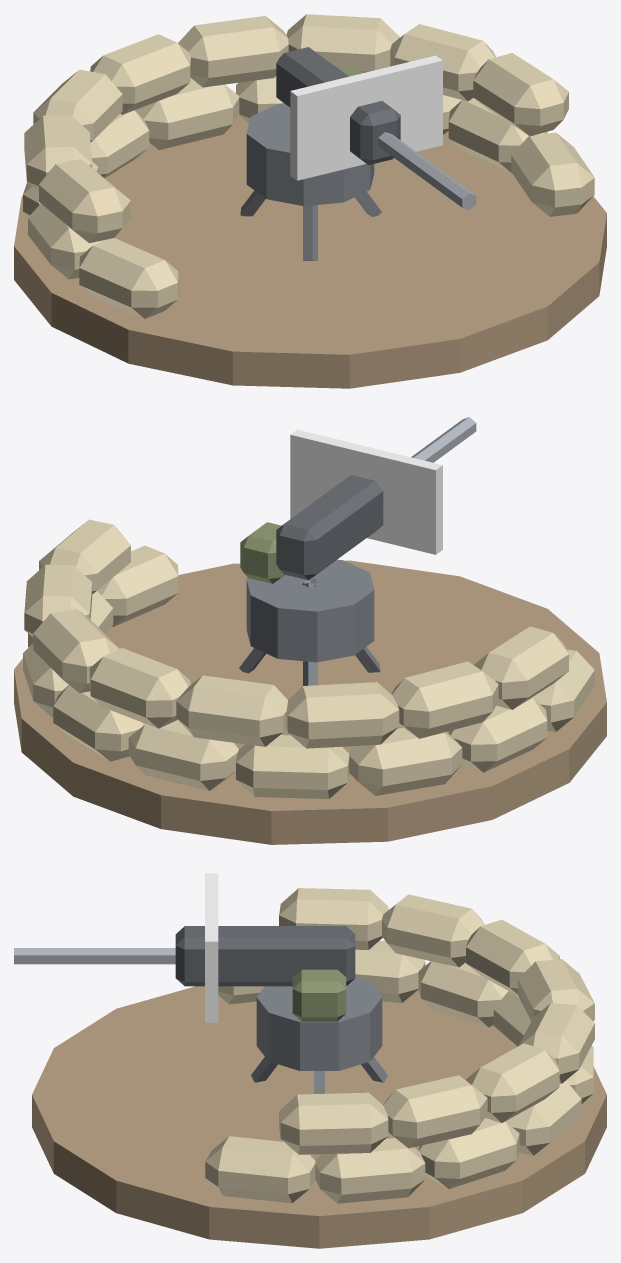
The model's file is miniturret.glb.
3 views of the same model, one above another, from view 1: azimuth 30°, elevation 25°; view 2: azimuth 150°, elevation 25°; view 3: azimuth 270°, elevation 25° (orthographic). The views are drawn at different scales.
Parts seen in each view (by area): view 1: main, turret; view 2: main, turret; view 3: main, turret.
Part boxes in pixels (x1=…): main: x1=14, y1=14, x2=606, y2=388; turret: x1=240, y1=47, x2=476, y2=260; main: x1=14, y1=519, x2=606, y2=844; turret: x1=239, y1=417, x2=476, y2=685; main: x1=32, y1=888, x2=606, y2=1248; turret: x1=14, y1=873, x2=387, y2=1093.
Size of the model in its own units: 0.64 by 0.27 by 0.66.
